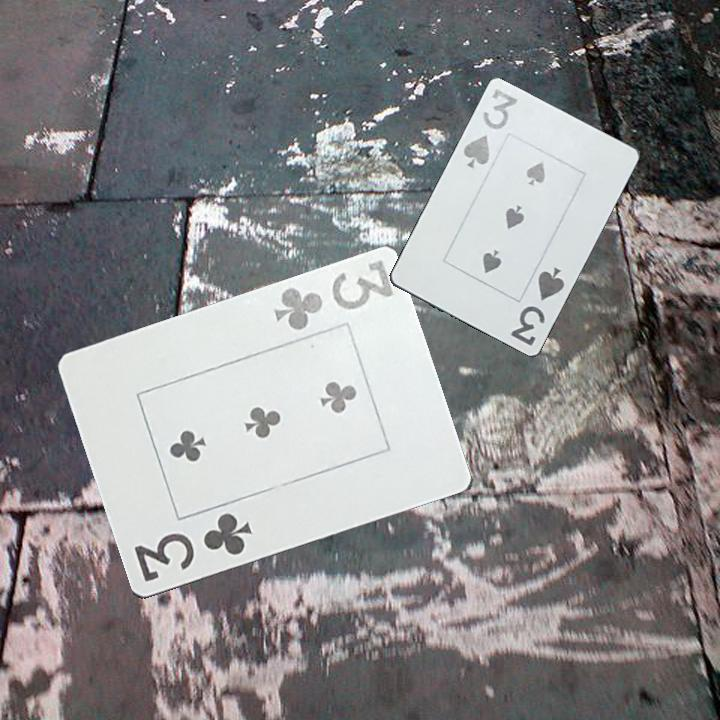3c: (269, 257, 396, 334), (130, 509, 255, 586)
3s: (459, 84, 520, 171), (507, 263, 568, 349)
